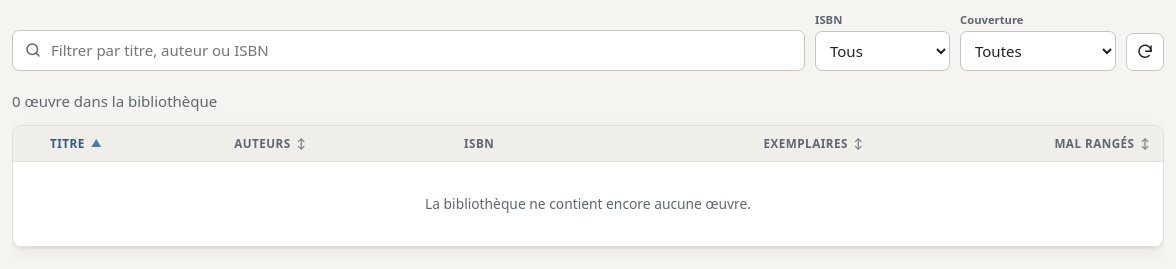
EcranBase › affiche un message adapté quand aucune œuvre ne correspond
Expected: the text "La bibliothèque ne contient encore aucune œuvre." is shown, [13, 162, 1163, 246]
Select "Sans ISBN" in the dropdown labelled "ISBN": (882,51) [815, 31, 950, 71]
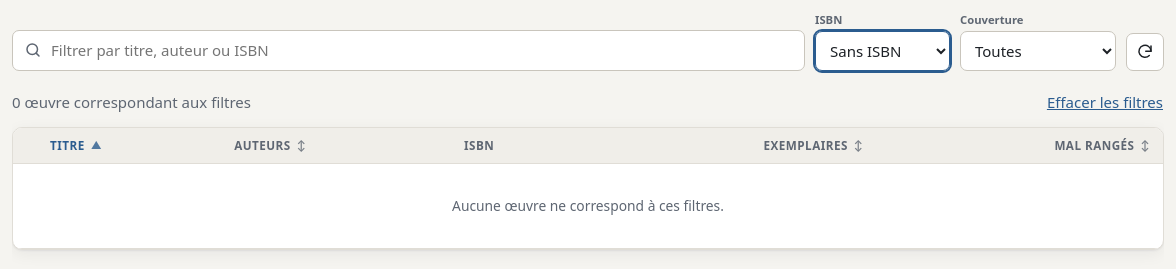
Expected: the text "Aucune œuvre ne correspond à ces filtres." is shown, [13, 164, 1163, 248]
